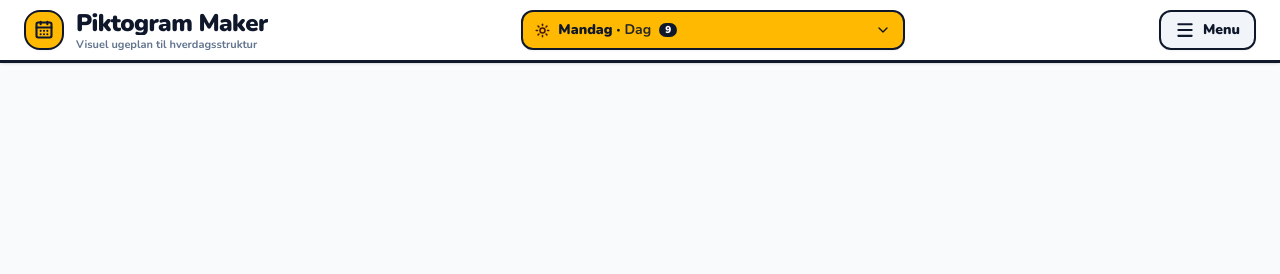
Test: Header component › displays sandwich menu and AI startguide button inside the menu
This screenshot has width=1280, height=274.
Later steps or results of the test are not shown.
Click the button with aria-label "Åbn menu".
click(1208, 30)  # box [1159, 10, 1256, 50]
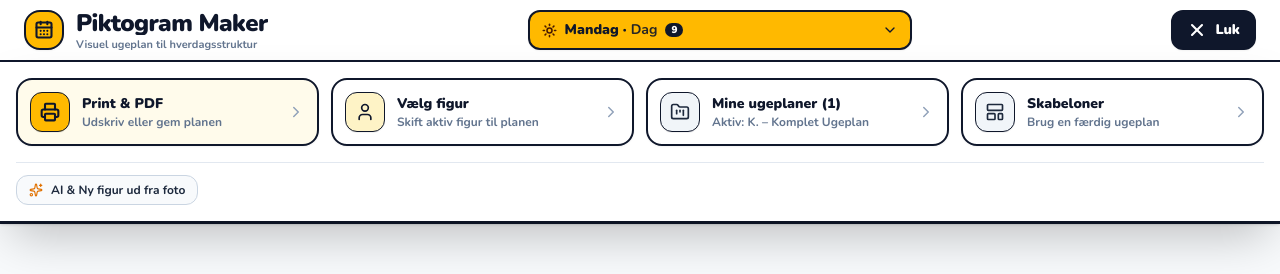
Expected: the text "AI & Ny figur ud fra foto" is shown, [51, 182, 185, 198]
